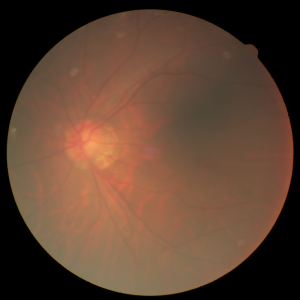cataract: (39, 93, 242, 209)
